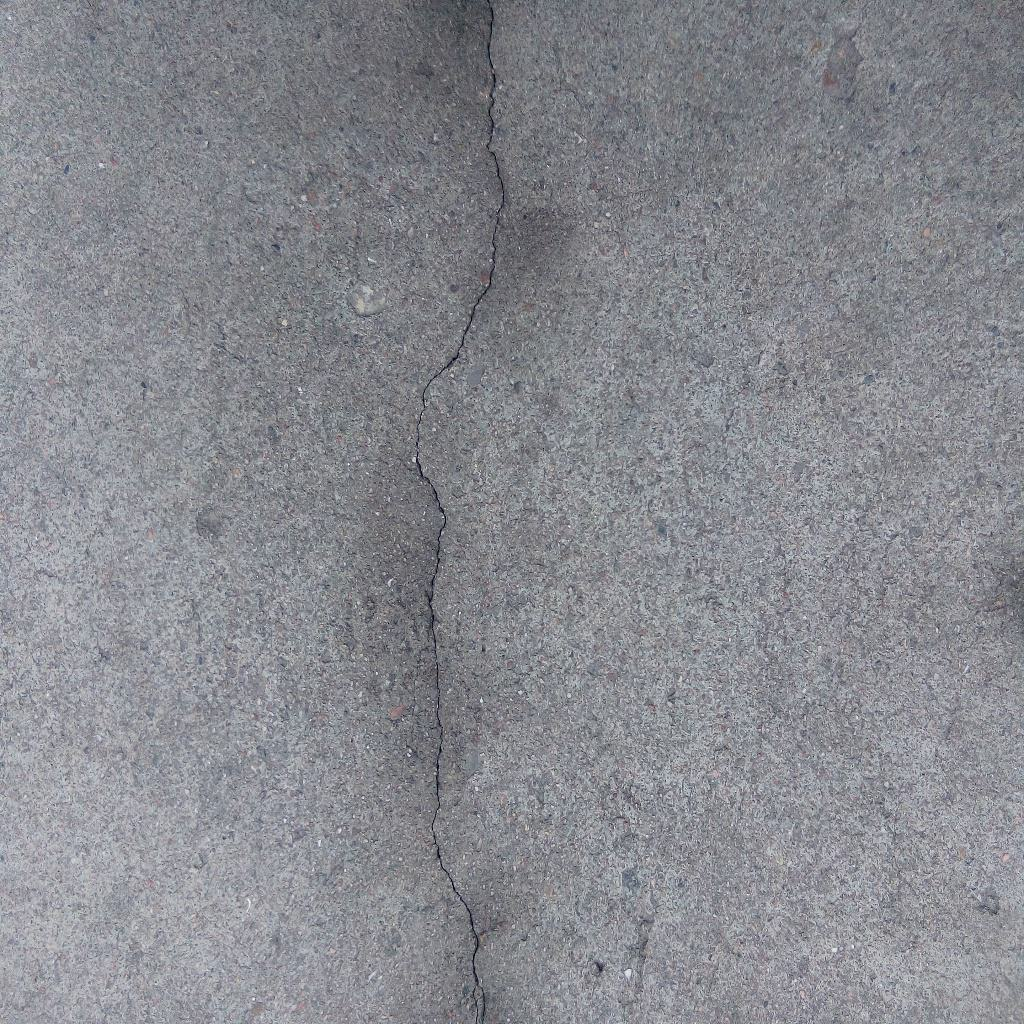Crack: (415, 1, 507, 1024)
